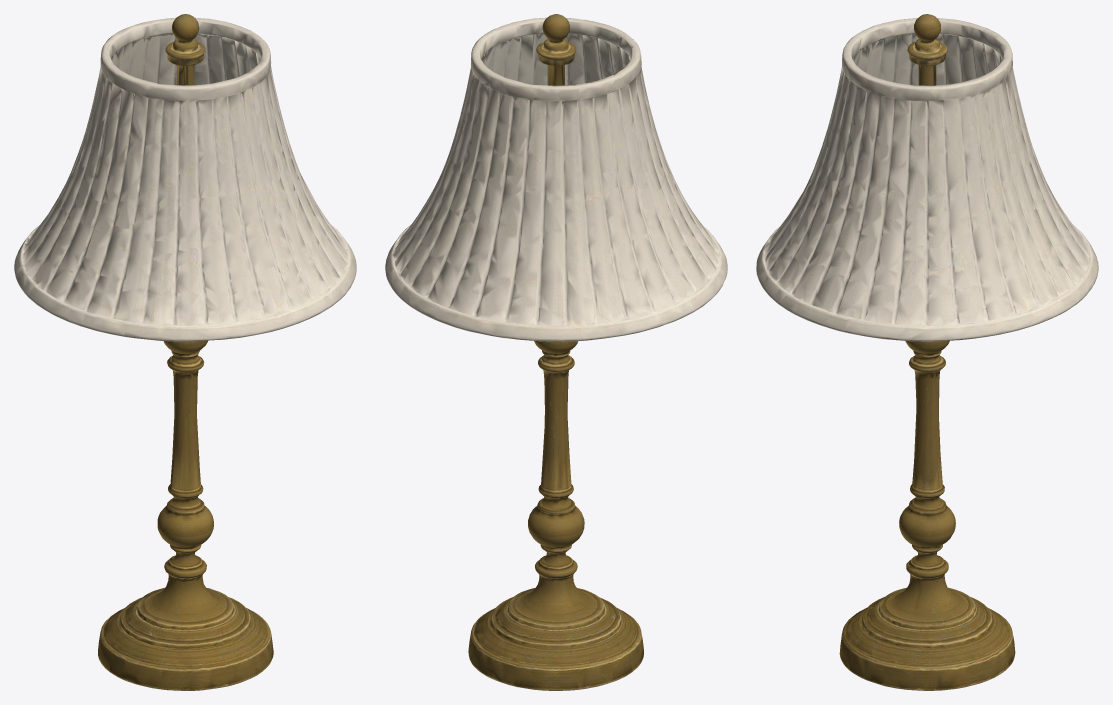
The model's file is lamp.glb.
3 renders of one model, left to right at view 1: azimuth 30°, elevation 25°; view 2: azimuth 150°, elevation 25°; view 3: azimuth 270°, elevation 25°, orthographic.
Size of the model in its own units: 0.9239 by 1.9 by 0.9239.
1 material, 1 textured.
